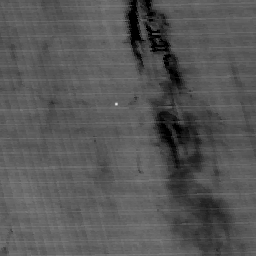Target: (112, 100, 120, 108)
